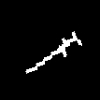double_crochet: (26, 32, 81, 72)
